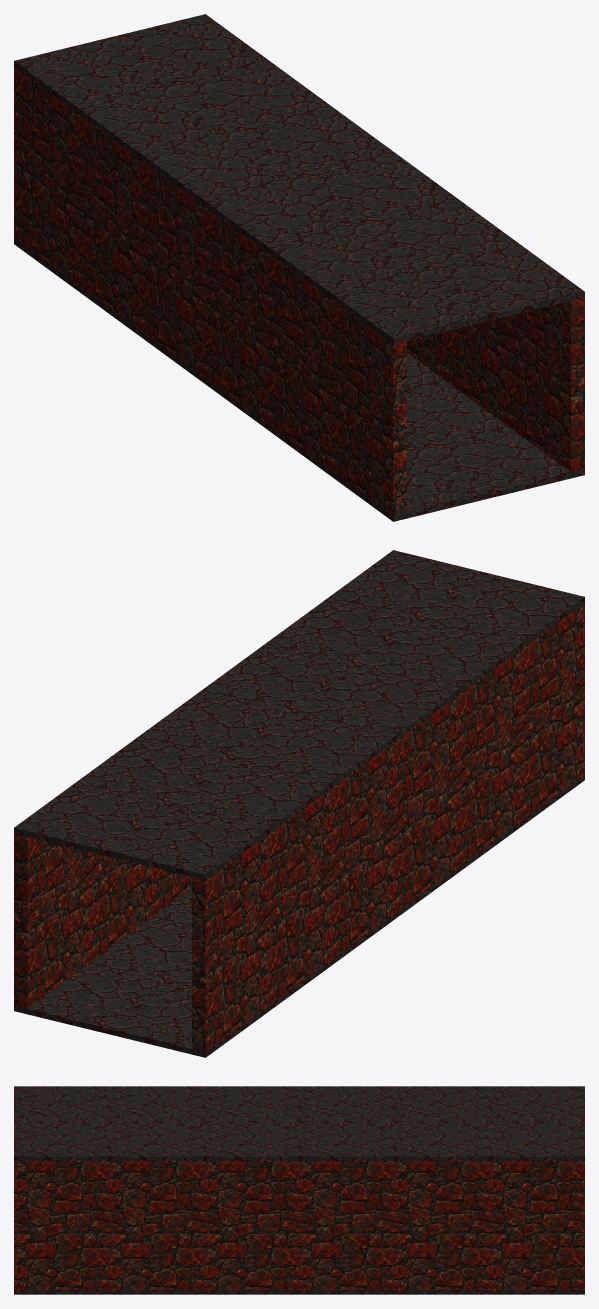
Rendered from corridor_straight.glb.
3 renders of one model, top to bottom at view 1: azimuth 30°, elevation 25°; view 2: azimuth 150°, elevation 25°; view 3: azimuth 270°, elevation 25°, orthographic. The views are drawn at different scales.
Visible parts, largest first — view 1: Geo_Ceiling.006, Geo_Wall_W.001, Geo_Wall_E.001, Geo_Floor.006; view 2: Geo_Ceiling.006, Geo_Wall_W.001, Geo_Wall_E.001, Geo_Floor.006; view 3: Geo_Wall_E.001, Geo_Ceiling.006, Geo_Floor.006.
Part boxes in pixels (<box>): Geo_Ceiling.006: <box>14,14,584,343</box>; Geo_Wall_W.001: <box>14,67,406,515</box>; Geo_Wall_E.001: <box>407,297,584,472</box>; Geo_Floor.006: <box>14,239,584,521</box>; Geo_Ceiling.006: <box>14,550,584,879</box>; Geo_Wall_W.001: <box>192,603,584,1051</box>; Geo_Wall_E.001: <box>14,833,191,1008</box>; Geo_Floor.006: <box>14,775,584,1057</box>; Geo_Wall_E.001: <box>14,1161,584,1290</box>; Geo_Ceiling.006: <box>14,1086,584,1160</box>; Geo_Floor.006: <box>14,1290,584,1294</box>.
Size of the model in its own units: 7 by 6.4 by 24.
3 materials, 3 textured.
